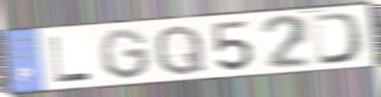2: (260, 13, 316, 72)
5: (210, 19, 255, 72)
D: (312, 10, 368, 66)
G: (98, 27, 152, 82)
L: (48, 35, 95, 85)
Q: (153, 23, 208, 78)
